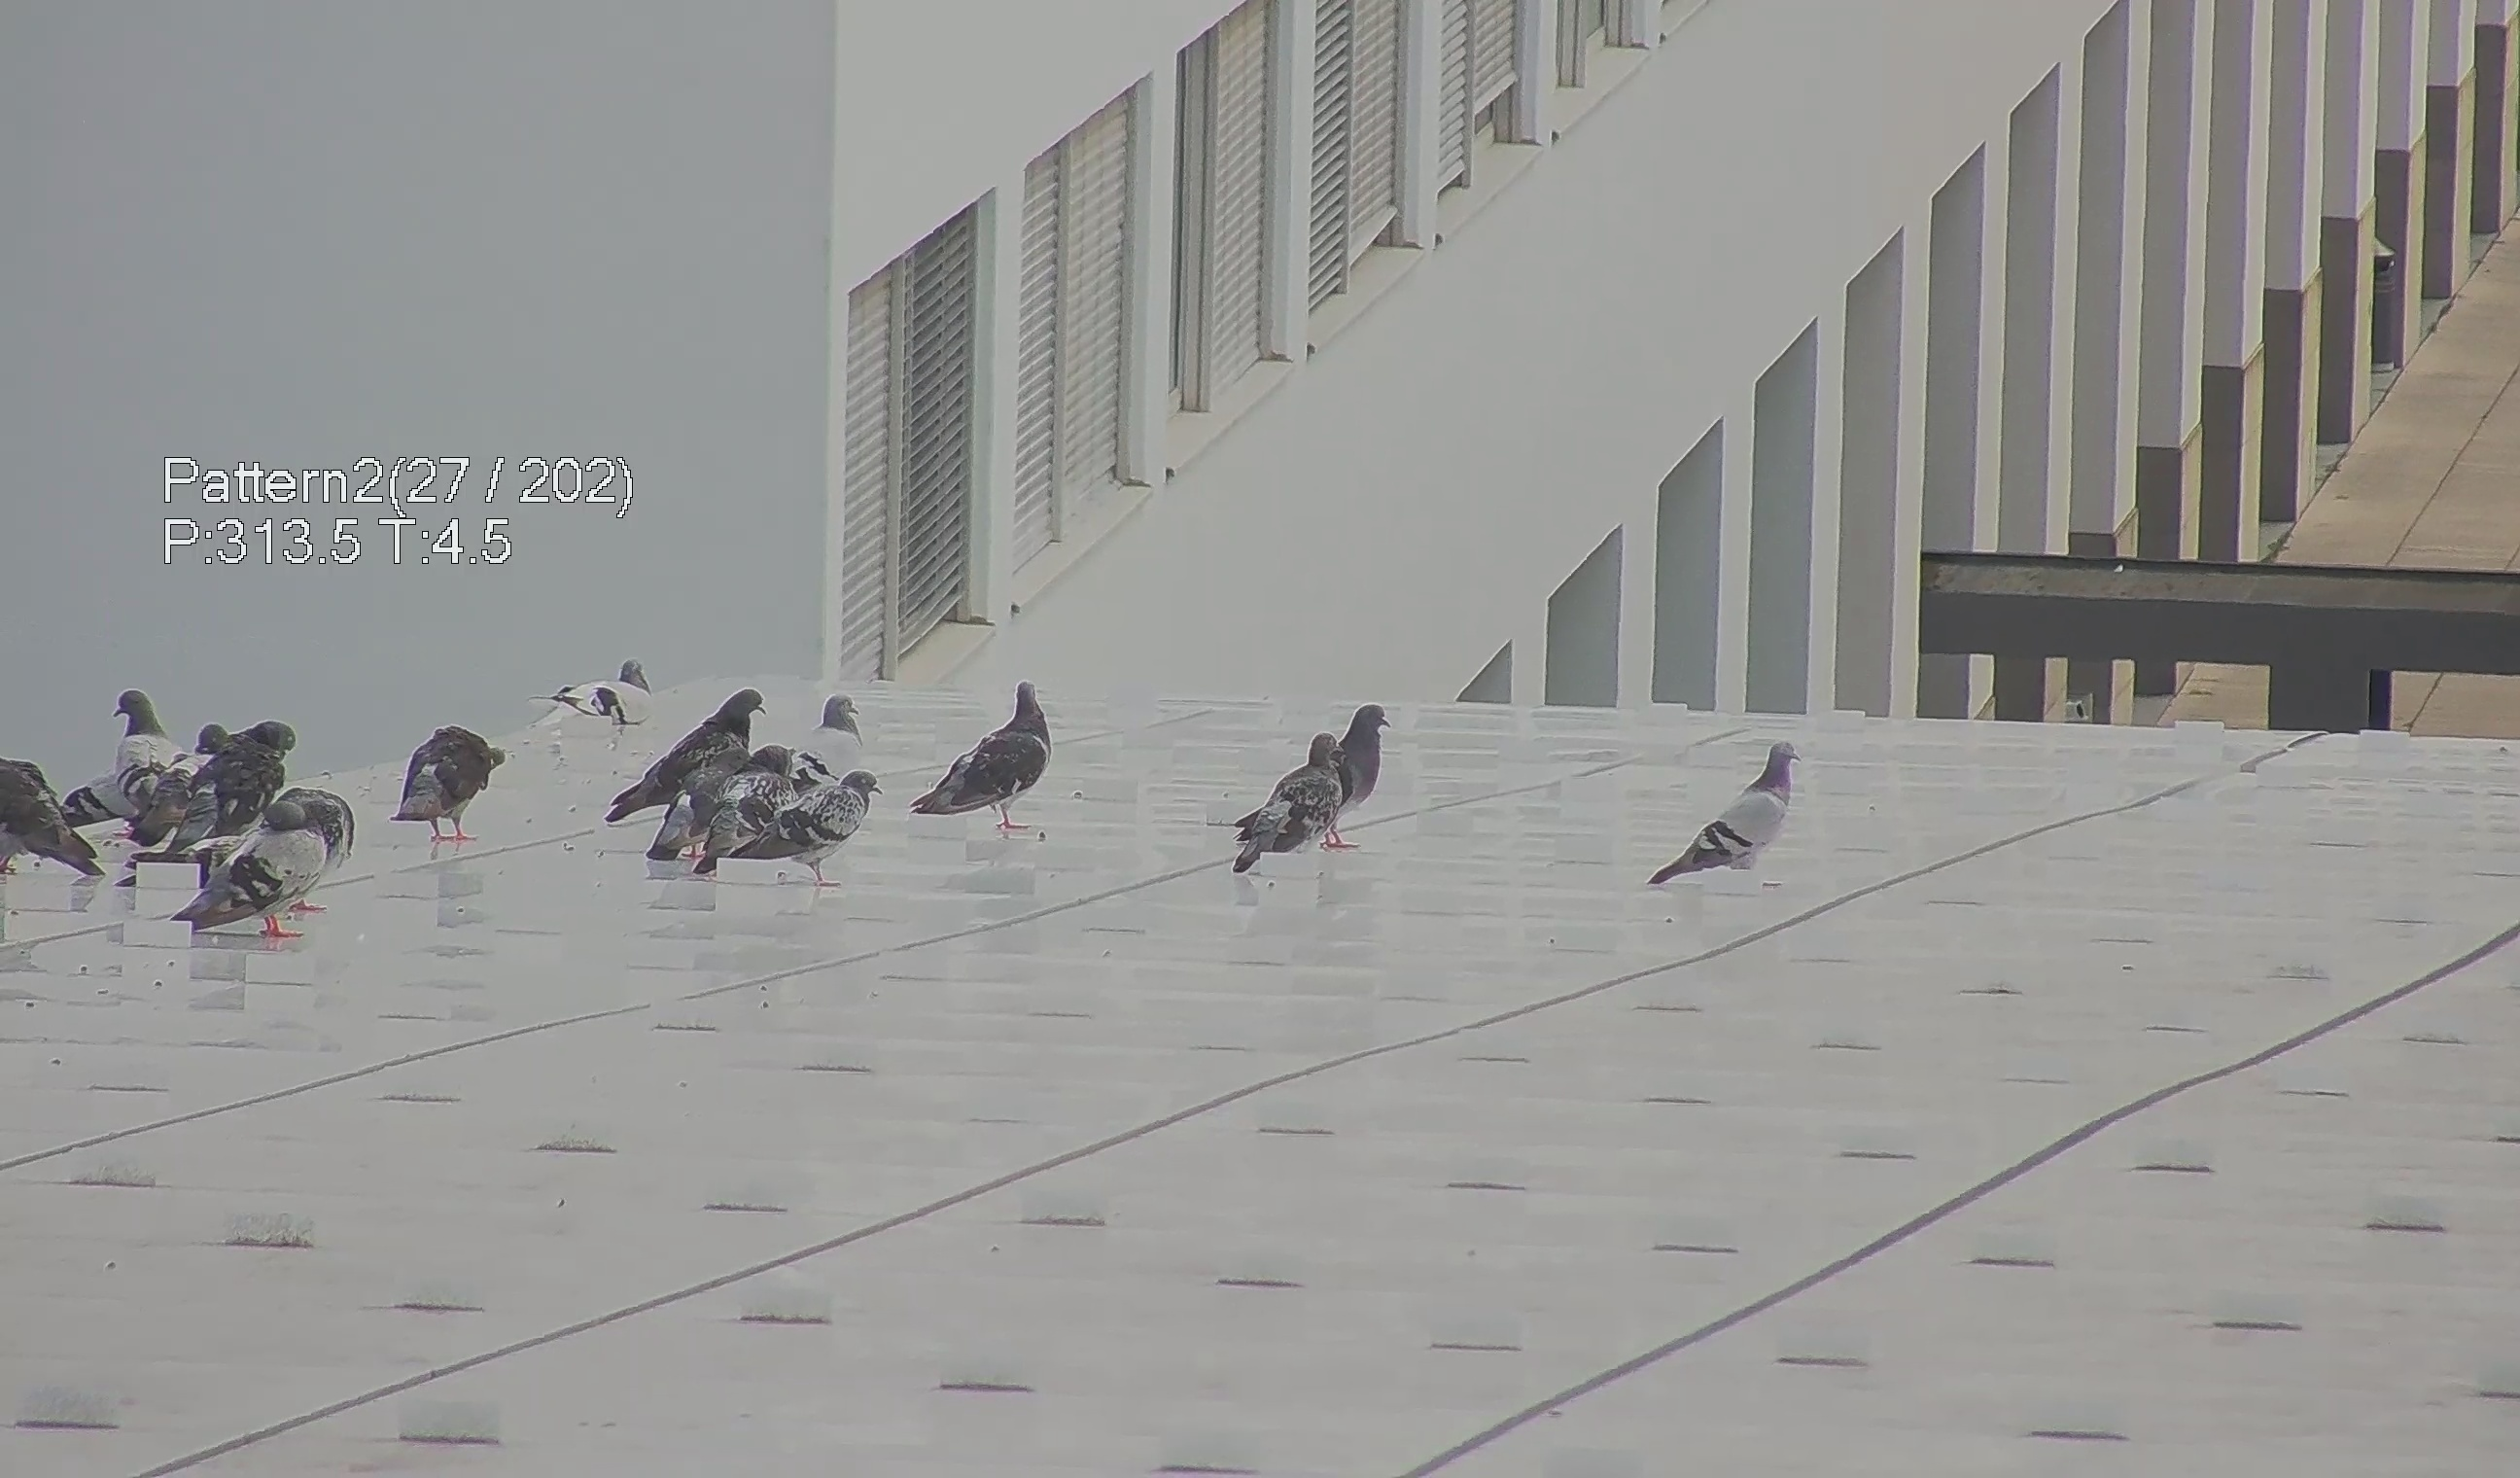Pigeon: (1651, 737, 1825, 899), (178, 785, 352, 943), (904, 672, 1059, 832), (608, 669, 751, 834), (1219, 718, 1352, 883), (171, 716, 310, 850), (746, 764, 893, 876), (382, 714, 498, 845), (2, 751, 97, 883), (698, 744, 800, 866), (1310, 699, 1395, 841), (535, 660, 666, 737), (649, 764, 723, 876), (113, 683, 169, 795), (798, 697, 874, 779)
